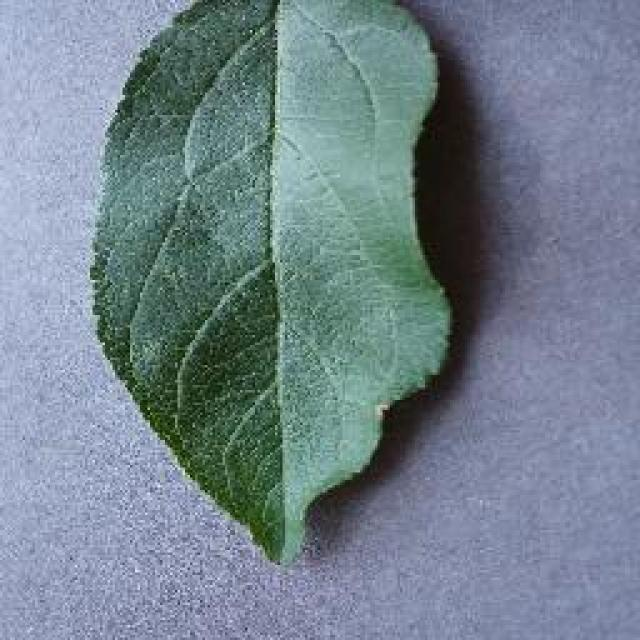apple healthy: (87, 0, 455, 565)
